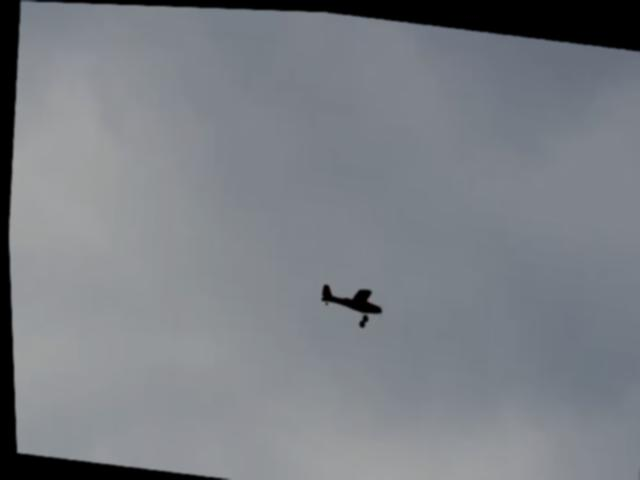plane: (315, 279, 384, 327)
